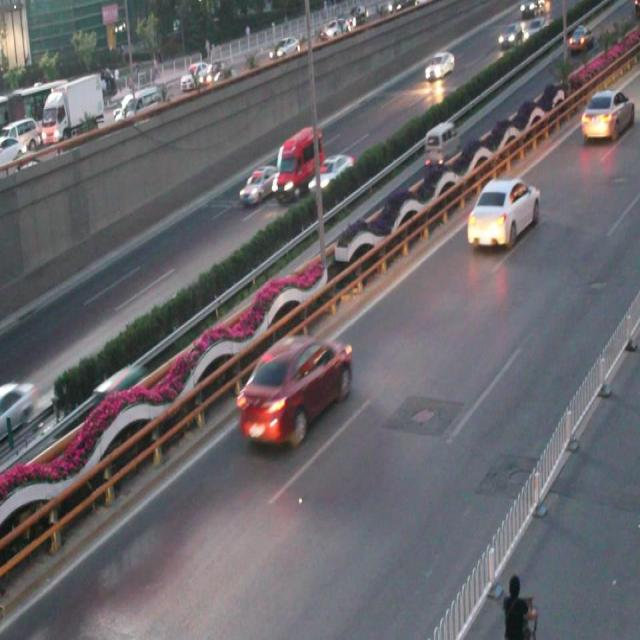car: (236, 334, 353, 446), (464, 174, 539, 250), (80, 372, 142, 443), (307, 154, 353, 192), (238, 166, 278, 203), (422, 48, 454, 82)
truck: (274, 128, 323, 201), (421, 121, 458, 168)
